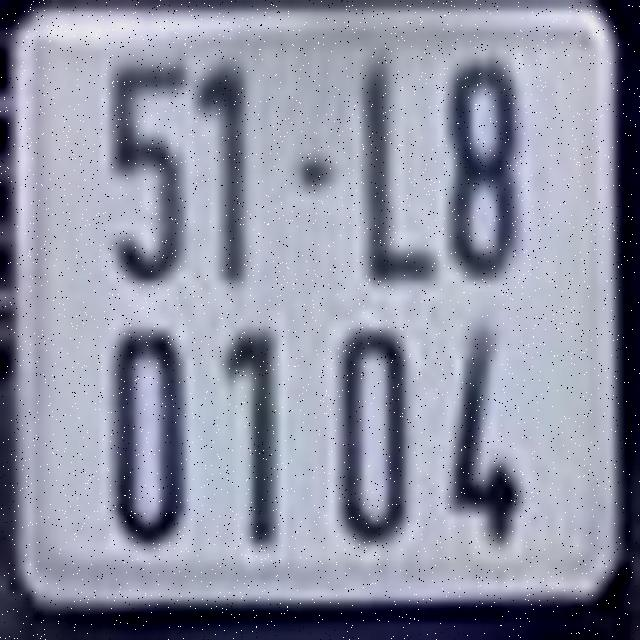0: (110, 324, 190, 546), (336, 324, 411, 543)
1: (221, 324, 293, 548), (196, 60, 256, 284)
4: (449, 325, 523, 547)
5: (106, 59, 190, 284)
8: (449, 57, 520, 280)
L: (357, 52, 440, 284)
